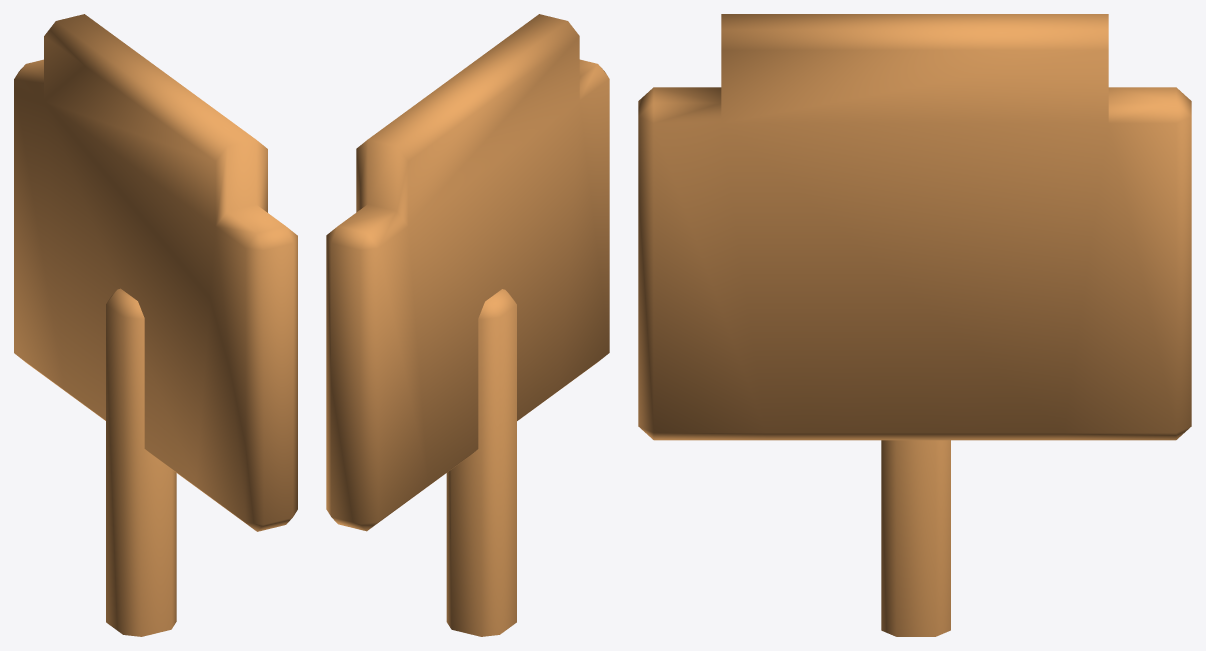
Rendered from Plate.fbx.
The picture shows the model from 3 angles, left to right: view 1: azimuth 30°, elevation 25°; view 2: azimuth 150°, elevation 25°; view 3: azimuth 270°, elevation 25°; orthographic projection. The views are drawn at different scales.
Visible parts, largest first — view 1: WoodPlate; view 2: WoodPlate; view 3: WoodPlate.
Part boxes in pixels (bbox=[...]): WoodPlate: bbox=[14, 14, 297, 636]; WoodPlate: bbox=[326, 14, 609, 636]; WoodPlate: bbox=[638, 14, 1191, 636].
Size of the model in its own units: 7.44 by 56.95 by 46.94.
